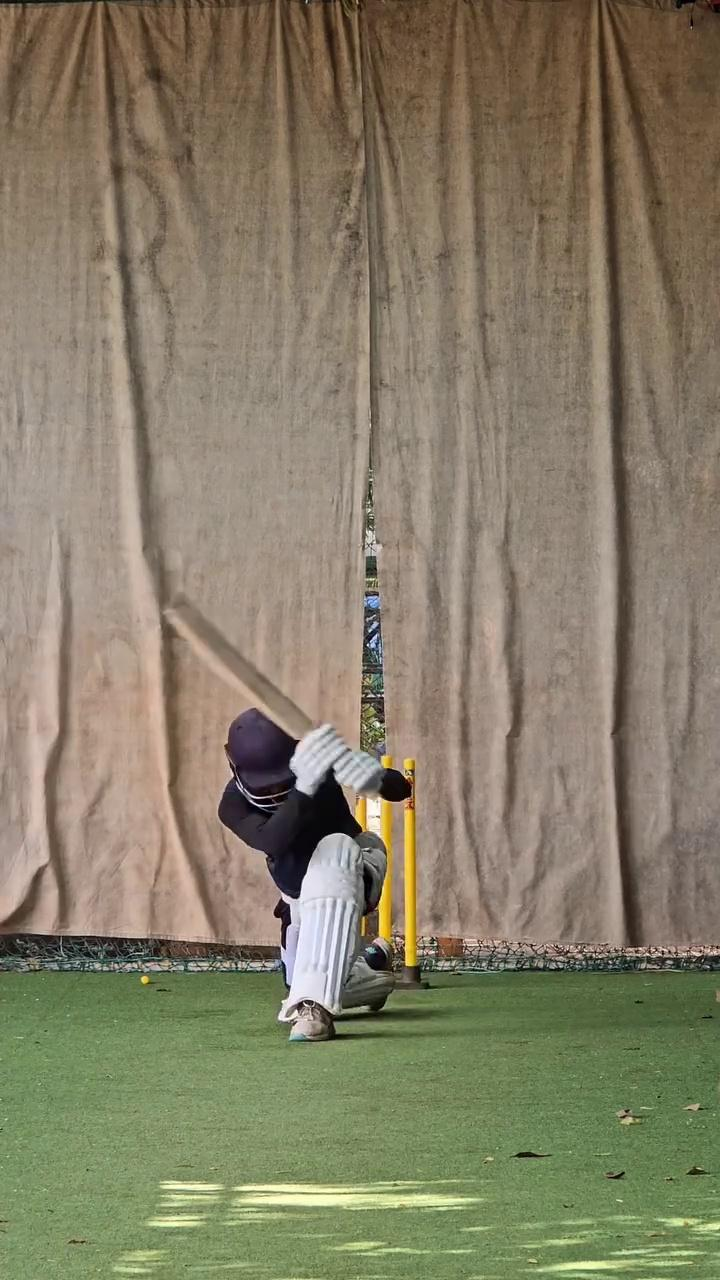bat: (162, 590, 318, 740)
